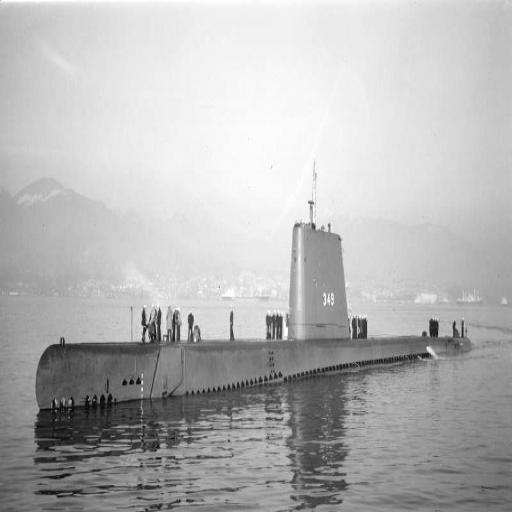submarine: (37, 165, 476, 411)
